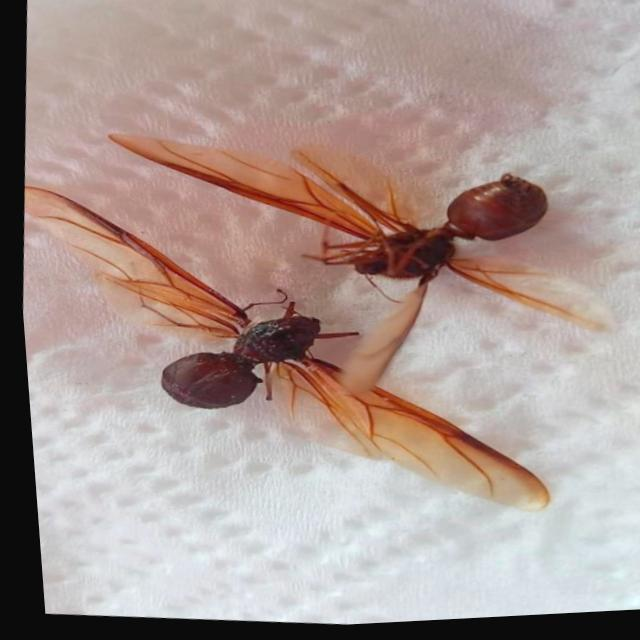Dead-Male-Alate: (11, 161, 567, 538), (87, 112, 622, 361)
